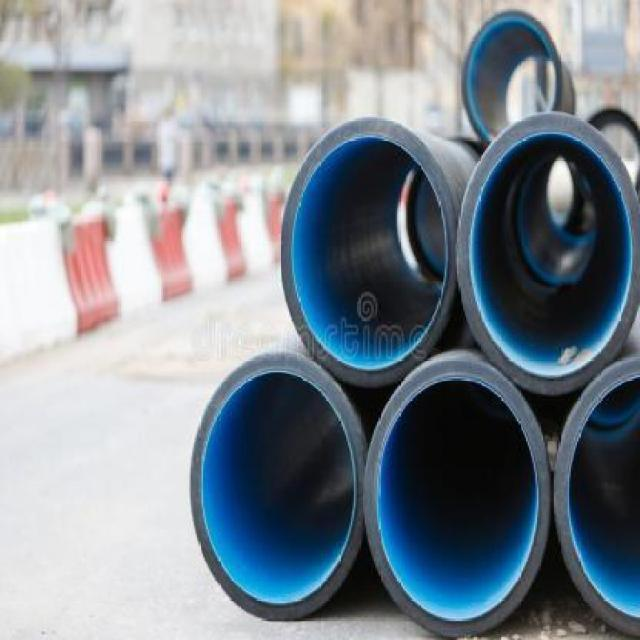pipe: (362, 356, 551, 637), (457, 111, 639, 397), (280, 117, 457, 386), (191, 351, 366, 619), (551, 357, 640, 630), (460, 2, 562, 148)
